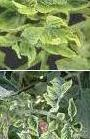Tomato leaf yellow virus: (21, 27, 71, 50), (4, 0, 90, 12), (39, 12, 65, 29), (66, 97, 76, 120), (45, 84, 57, 102), (29, 116, 39, 135), (61, 123, 71, 139)
